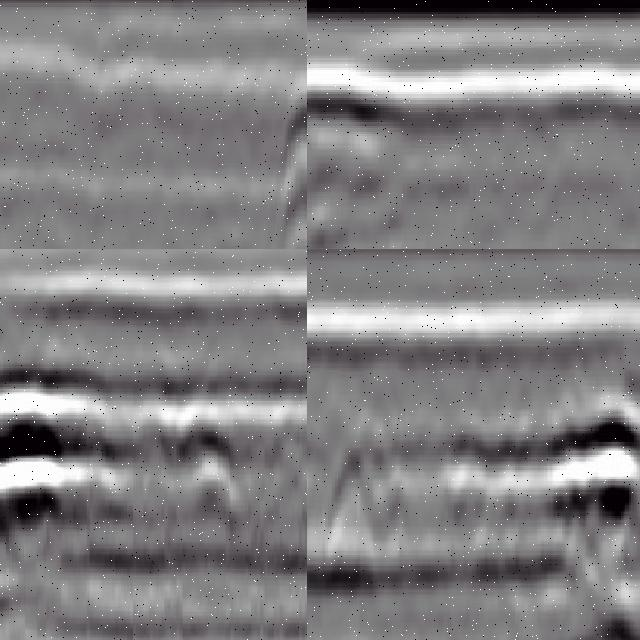crack: (279, 56, 308, 250)
loose: (1, 329, 235, 566), (444, 406, 640, 578), (308, 75, 412, 250)
